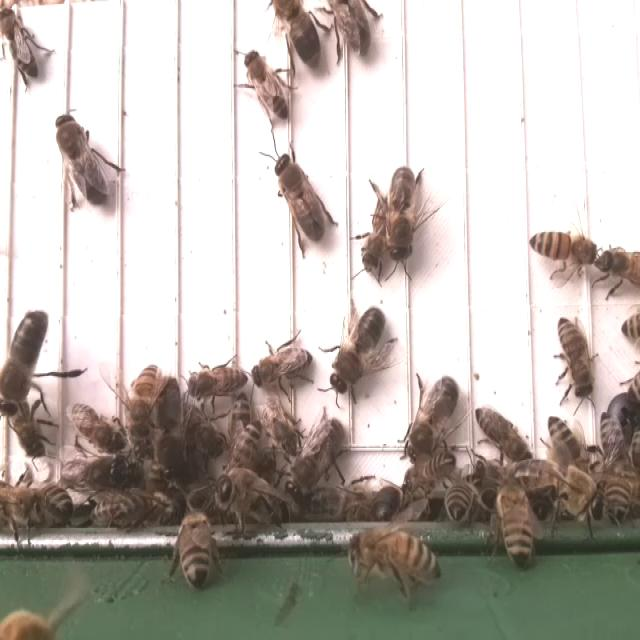Drone: (52, 108, 113, 210), (0, 304, 49, 420), (283, 414, 343, 503), (328, 303, 385, 394), (273, 151, 327, 245), (406, 375, 461, 464), (155, 371, 189, 486), (271, 0, 322, 68), (388, 163, 417, 267)
Worker: (348, 533, 442, 582), (244, 44, 289, 123), (474, 404, 533, 464), (70, 399, 126, 455), (0, 3, 41, 79), (526, 227, 600, 268), (556, 314, 590, 401), (398, 449, 458, 498), (251, 344, 315, 389), (546, 415, 592, 476), (125, 362, 161, 439), (185, 358, 246, 398), (230, 414, 266, 480)
